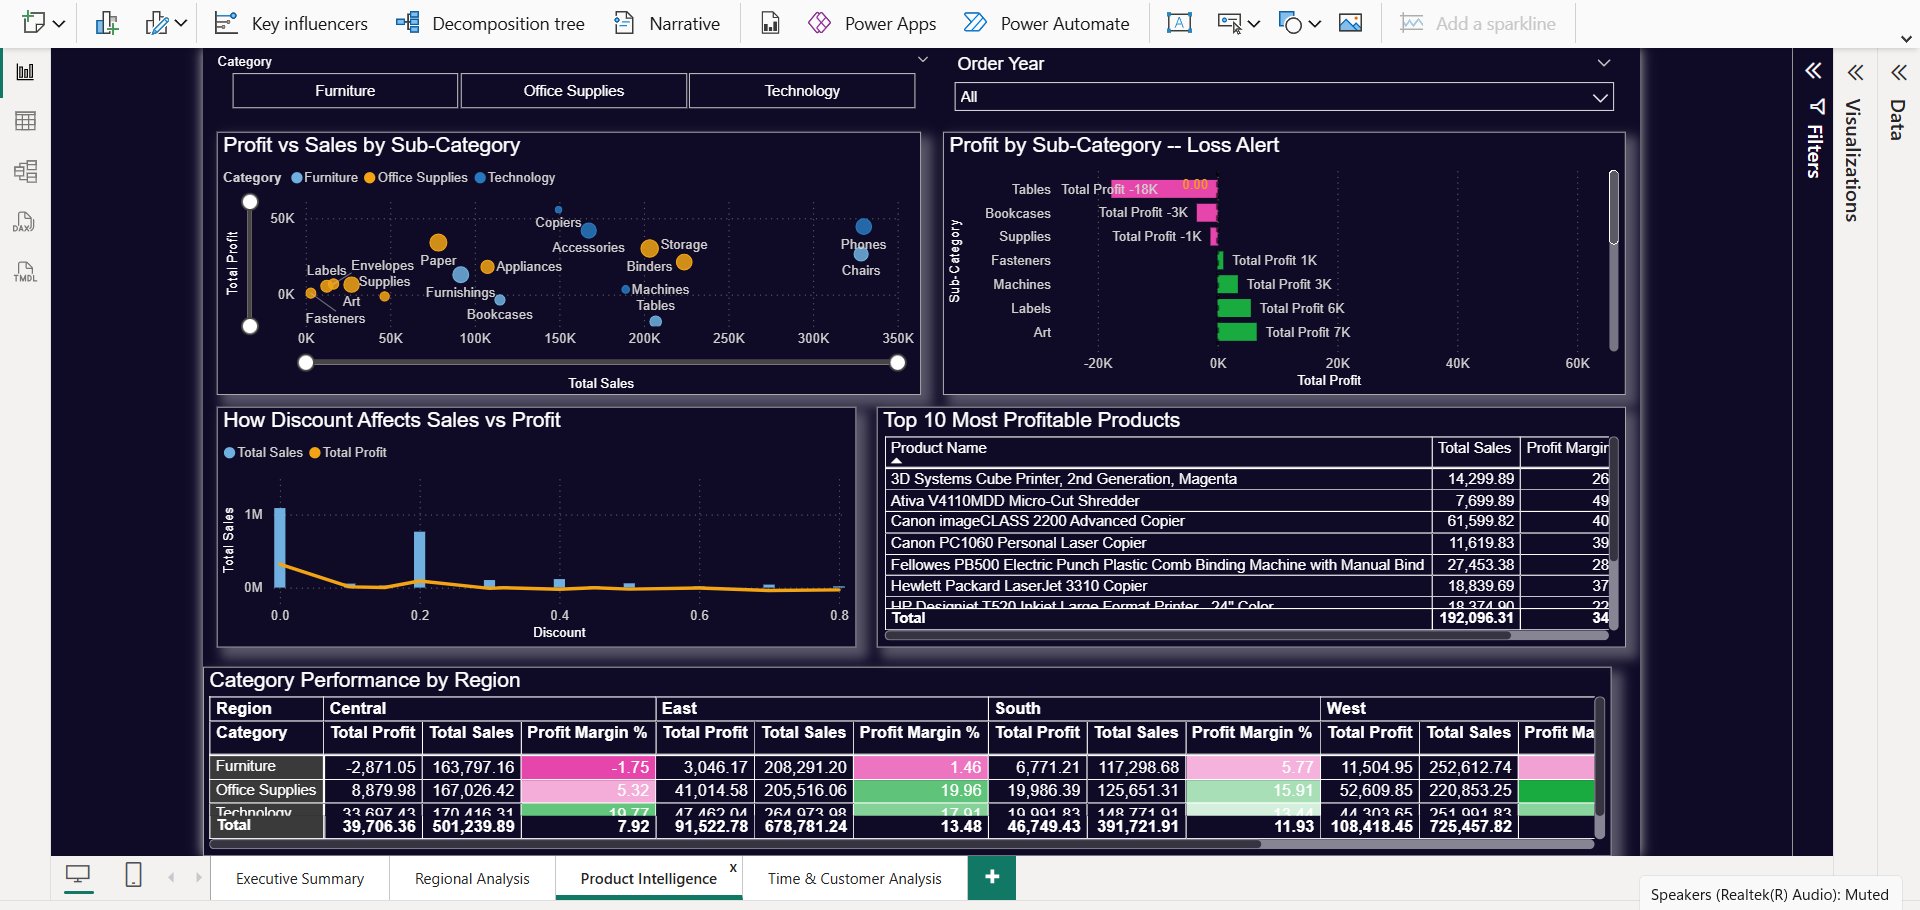

What the dashboard file says about the page in this screenshot:
{"tool":"powerbi","page":{"name":"Product Intelligence","canvas":[1280,720],"ordinal":2},"visuals":[{"type":"scatterChart","title":"Profit vs Sales by Sub-Category","fields":{"X":["superstore_cleaned.Total Sales"],"Y":["superstore_cleaned.Total Profit"],"Category":["superstore_cleaned.Sub-Category"],"Series":["superstore_cleaned.Category"],"Size":["superstore_cleaned.Total Orders"]},"box":[12.3,74.1,627.1,234.6],"z":0},{"type":"clusteredBarChart","title":"Profit by Sub-Category -- Loss Alert","fields":{"Category":["superstore_cleaned.Sub-Category"],"Y":["superstore_cleaned.Total Profit"]},"box":[658.7,74.1,607.9,234.6],"z":1000},{"type":"lineClusteredColumnComboChart","title":"How Discount Affects Sales vs Profit","fields":{"Y":["superstore_cleaned.Total Sales"],"Y2":["superstore_cleaned.Total Profit"],"Category":["superstore_cleaned.Discount"]},"box":[12.3,319.7,569.5,214.1],"z":2000},{"type":"pivotTable","title":"Category Performance by Region","fields":{"Rows":["superstore_cleaned.Category"],"Columns":["superstore_cleaned.Region"],"Values":["superstore_cleaned.Total Profit","superstore_cleaned.Total Sales","superstore_cleaned.Profit Margin %"]},"box":[0,551.3,1254.7,168.9],"z":3000},{"type":"tableEx","title":"Top 10 Most Profitable Products","fields":{"Values":["superstore_cleaned.Product Name","superstore_cleaned.Total Sales","superstore_cleaned.Profit Margin %","superstore_cleaned.Total Profit"]},"box":[599.7,319.7,666.9,214.1],"z":4000},{"type":"slicer","fields":{"Values":["superstore_cleaned.Category"]},"box":[0,0,658.7,60.4],"z":5000},{"type":"slicer","fields":{"Values":["superstore_cleaned.Order Year"]},"box":[658.7,0,607.9,60.4],"z":6000}]}

Visuals, with their boxes on the page's 1280x720 design canvas (x1, y1, x2, y2). These are canvas units, not pixel positions in the 1920x910 screenshot, which may show the page scaled, cropped or inside an application window:
"Profit vs Sales by Sub-Category" scatterChart: 12, 74, 639, 309
"Profit by Sub-Category -- Loss Alert" clusteredBarChart: 659, 74, 1267, 309
"How Discount Affects Sales vs Profit" lineClusteredColumnComboChart: 12, 320, 582, 534
"Category Performance by Region" pivotTable: 0, 551, 1255, 720
"Top 10 Most Profitable Products" tableEx: 600, 320, 1267, 534
slicer - superstore_cleaned.Category: 0, 0, 659, 60
slicer - superstore_cleaned.Order Year: 659, 0, 1267, 60
